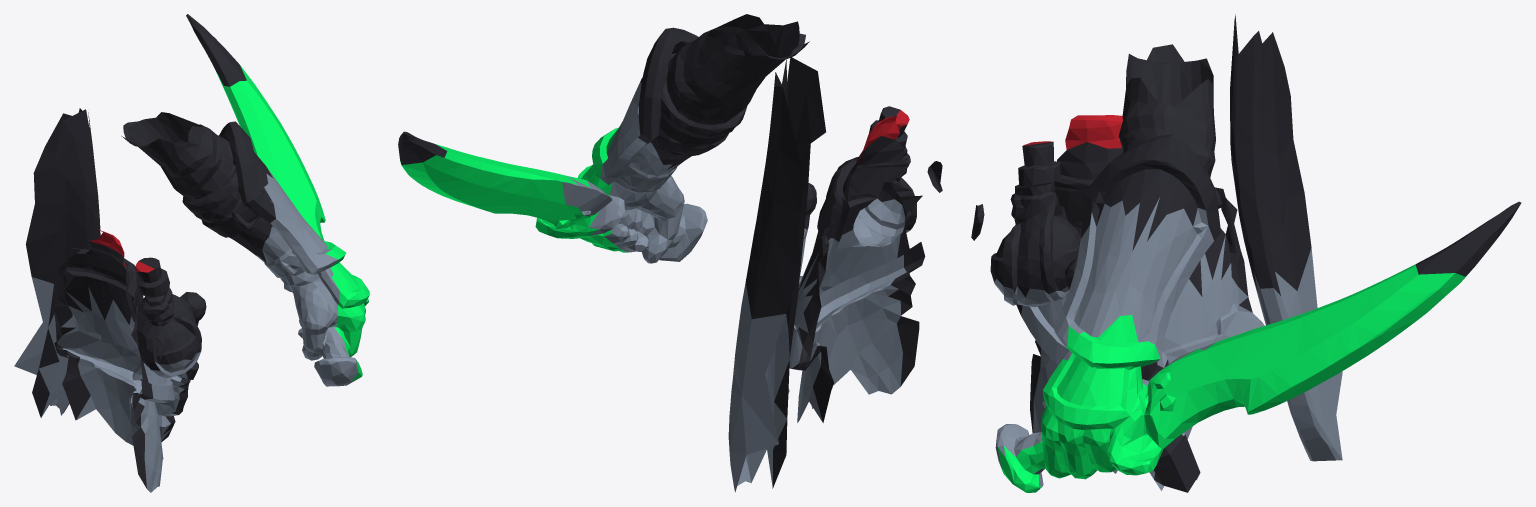
File: rogue_arm_l.obj
3 views of the same model, side by side, from view 1: azimuth 30°, elevation 25°; view 2: azimuth 150°, elevation 25°; view 3: azimuth 270°, elevation 25° (orthographic). The views are drawn at different scales.
Visible parts, largest first — view 1: Rogue_LeftArm; view 2: Rogue_LeftArm; view 3: Rogue_LeftArm.
Part boxes in pixels (x1=…): Rogue_LeftArm: x1=14, y1=14, x2=369, y2=492; Rogue_LeftArm: x1=398, y1=14, x2=942, y2=492; Rogue_LeftArm: x1=971, y1=14, x2=1521, y2=492.
Size of the model in its own units: 0.5435 by 0.6077 by 0.6836.
